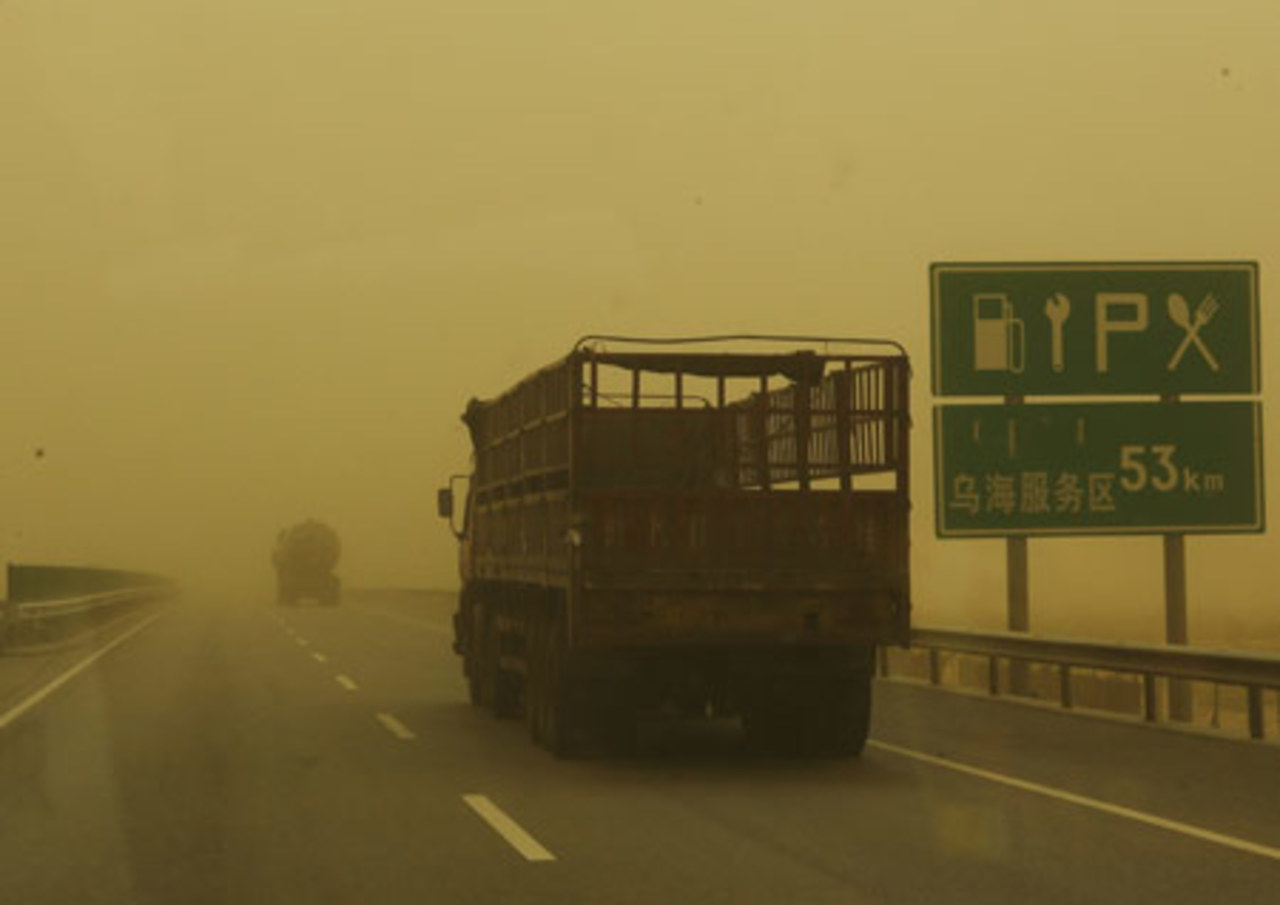truck: (451, 329, 907, 763), (269, 522, 345, 604)
